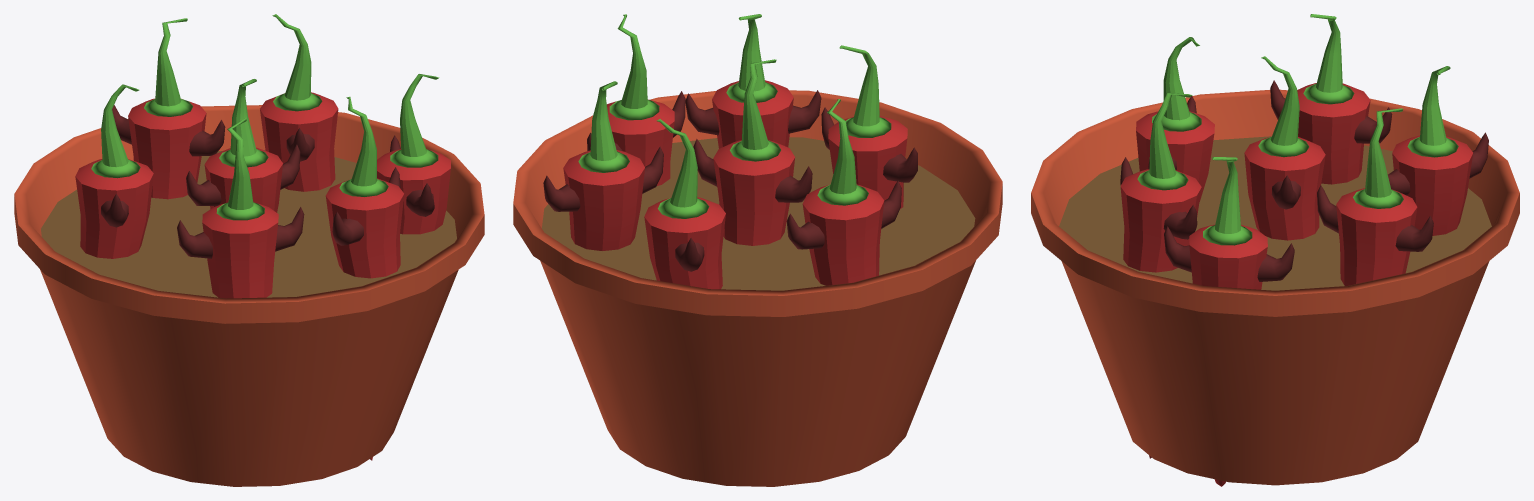
File: hellapino planeter.fbx
3 views of the same model, side by side, from view 1: azimuth 30°, elevation 25°; view 2: azimuth 150°, elevation 25°; view 3: azimuth 270°, elevation 25° (orthographic). The views are drawn at different scales.
Visible parts, largest first — view 1: polySurface2; view 2: polySurface2; view 3: polySurface2.
Boxes of the visible parts, x1,y1,x2,y2 form: polySurface2: (14,14,484,486); polySurface2: (513,14,1002,486); polySurface2: (1031,14,1519,486).
Bounding box in the file's own units: 4.68 × 4.02 × 4.68.
